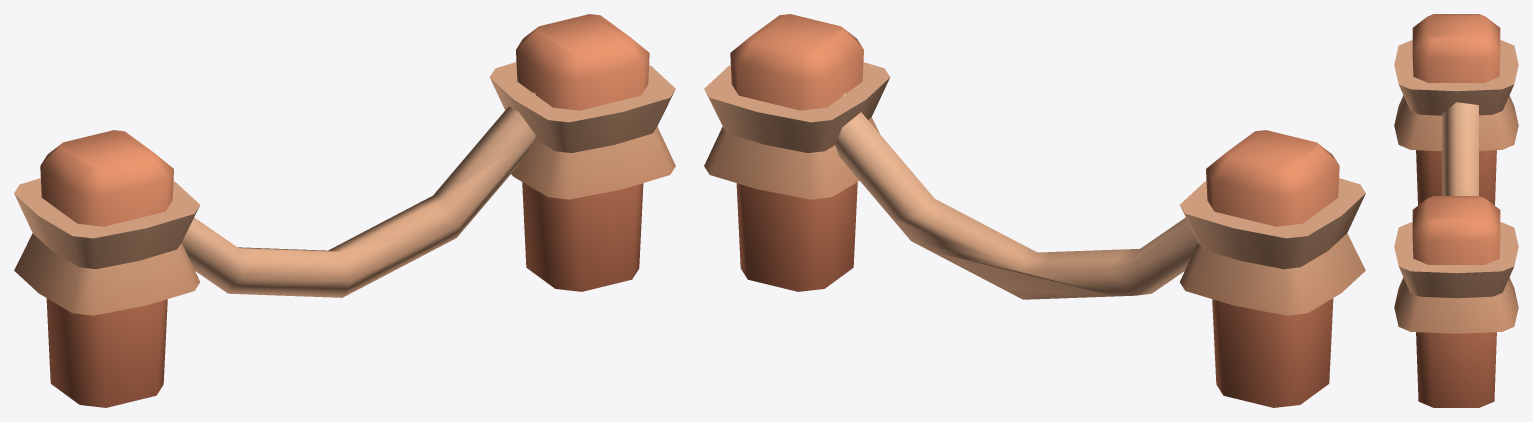
Rendered from mf-fence.glb.
The picture shows the model from 3 angles, left to right: view 1: azimuth 30°, elevation 25°; view 2: azimuth 150°, elevation 25°; view 3: azimuth 270°, elevation 25°; orthographic projection. The views are drawn at different scales.
Visible parts, largest first — view 1: fence; view 2: fence; view 3: fence.
Boxes of the visible parts, x1,y1,x2,y2 form: fence: (14,14,675,407); fence: (704,14,1365,407); fence: (1394,14,1518,407).
Size of the model in its own units: 1.1 by 0.4 by 0.2458.
1 material, 1 textured.
